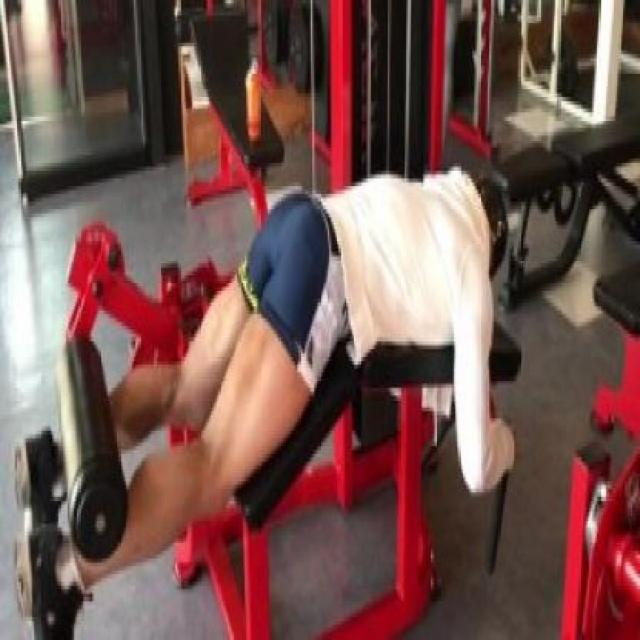reg curl machine: (6, 0, 532, 640)
